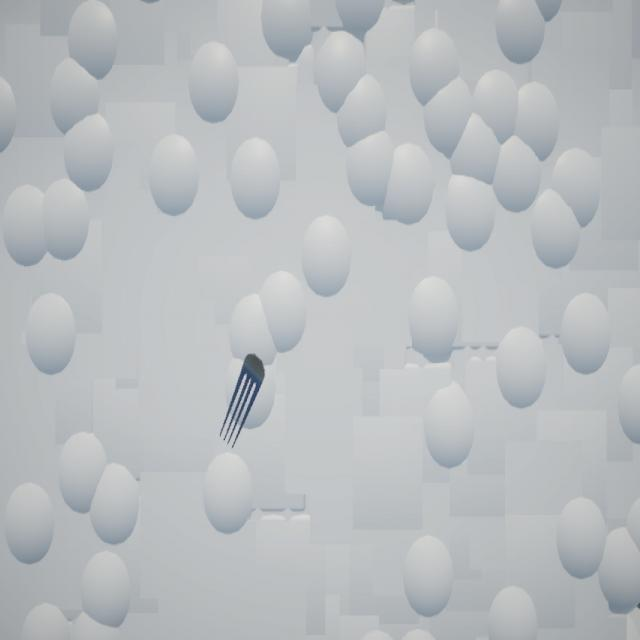top_folk: (220, 354, 267, 450)
